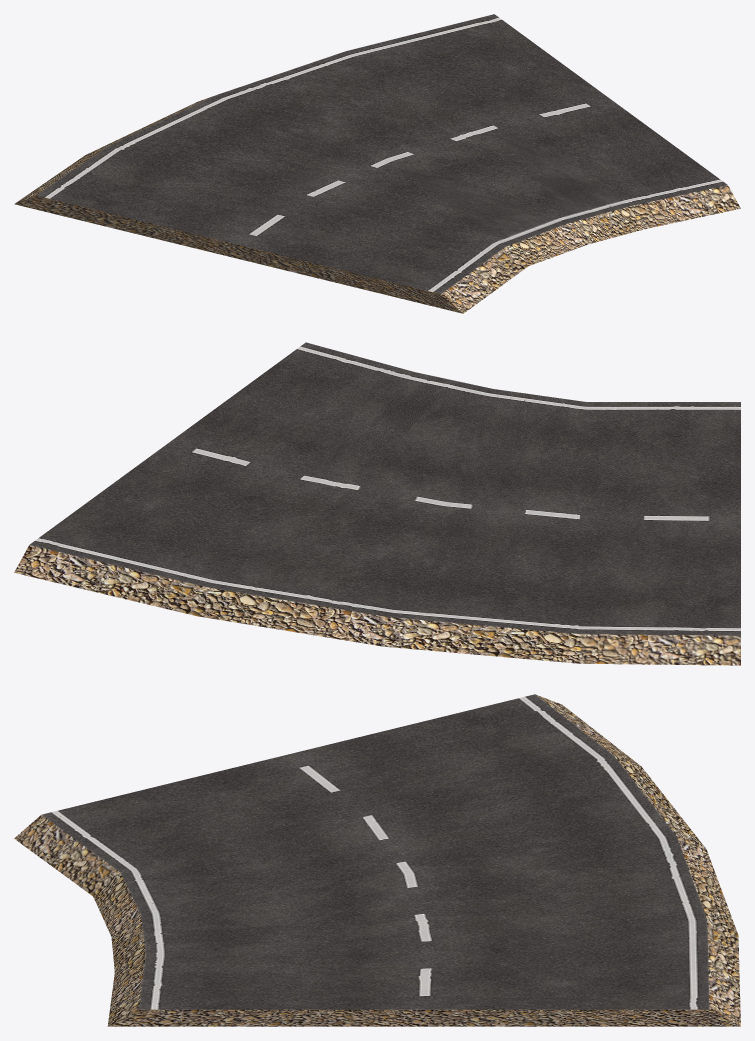
Rendered from roadPart01turn30.fbx.
3 views of the same model, one above another, from view 1: azimuth 30°, elevation 25°; view 2: azimuth 150°, elevation 25°; view 3: azimuth 270°, elevation 25° (orthographic). The views are drawn at different scales.
Parts seen in each view (by area): view 1: Cube; view 2: Cube; view 3: Cube.
Boxes of the visible parts, x1,y1,x2,y2 form: Cube: (14,14,740,313); Cube: (14,342,740,665); Cube: (14,694,740,1026).
Bounding box in the file's own units: 2406 × 60 × 2296.
